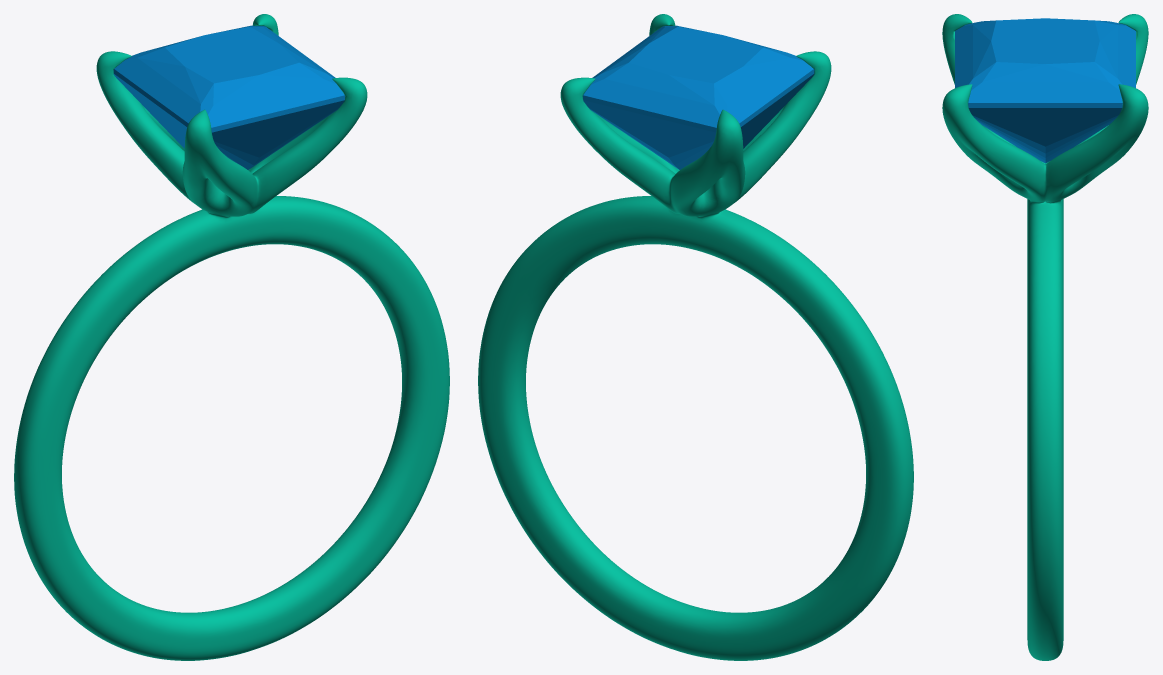
File: BE1901_PR_200ct_RENDER.glb
3 views of the same model, side by side, from view 1: azimuth 30°, elevation 25°; view 2: azimuth 150°, elevation 25°; view 3: azimuth 270°, elevation 25° (orthographic).
Visible parts, largest first — view 1: Metal 01, CS_Diamond_Princess; view 2: Metal 01, CS_Diamond_Princess; view 3: Metal 01, CS_Diamond_Princess.
Boxes of the visible parts, x1,y1,x2,y2 form: Metal 01: (14,14,449,660); CS_Diamond_Princess: (113,25,345,169); Metal 01: (478,14,913,660); CS_Diamond_Princess: (582,25,814,169); Metal 01: (942,14,1148,660); CS_Diamond_Princess: (955,18,1135,163).
Size of the model in its own units: 20.49 by 27.28 by 8.54.
